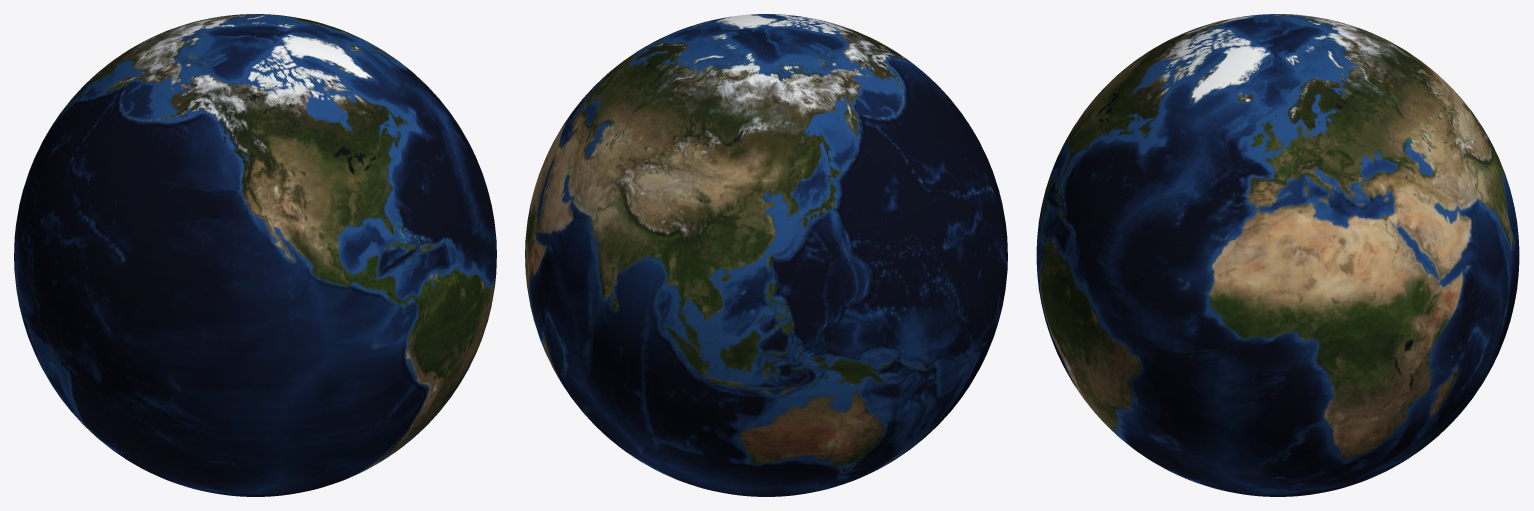
File: globe.obj
3 renders of one model, left to right at view 1: azimuth 30°, elevation 25°; view 2: azimuth 150°, elevation 25°; view 3: azimuth 270°, elevation 25°, orthographic.
Parts seen in each view (by area): view 1: Sphere; view 2: Sphere; view 3: Sphere.
Part boxes in pixels (<box>): Sphere: <box>14,14,496,496</box>; Sphere: <box>525,14,1007,496</box>; Sphere: <box>1036,14,1519,496</box>.
Size of the model in its own units: 2 by 2 by 2.
1 material, 1 textured.
